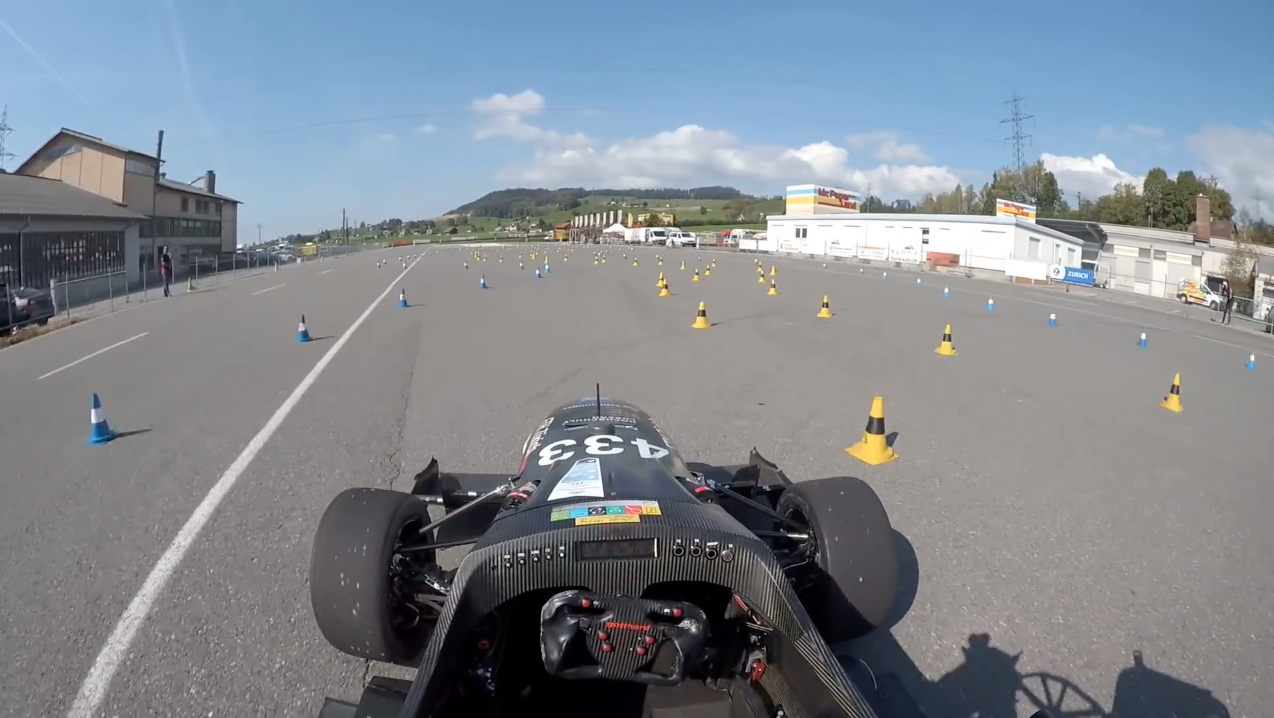lcone: (82, 389, 121, 450), (294, 312, 316, 344), (395, 285, 414, 311)
rcone: (841, 391, 903, 469), (1156, 369, 1189, 414), (932, 321, 961, 358), (690, 297, 715, 331), (815, 291, 837, 322), (656, 276, 675, 300)
